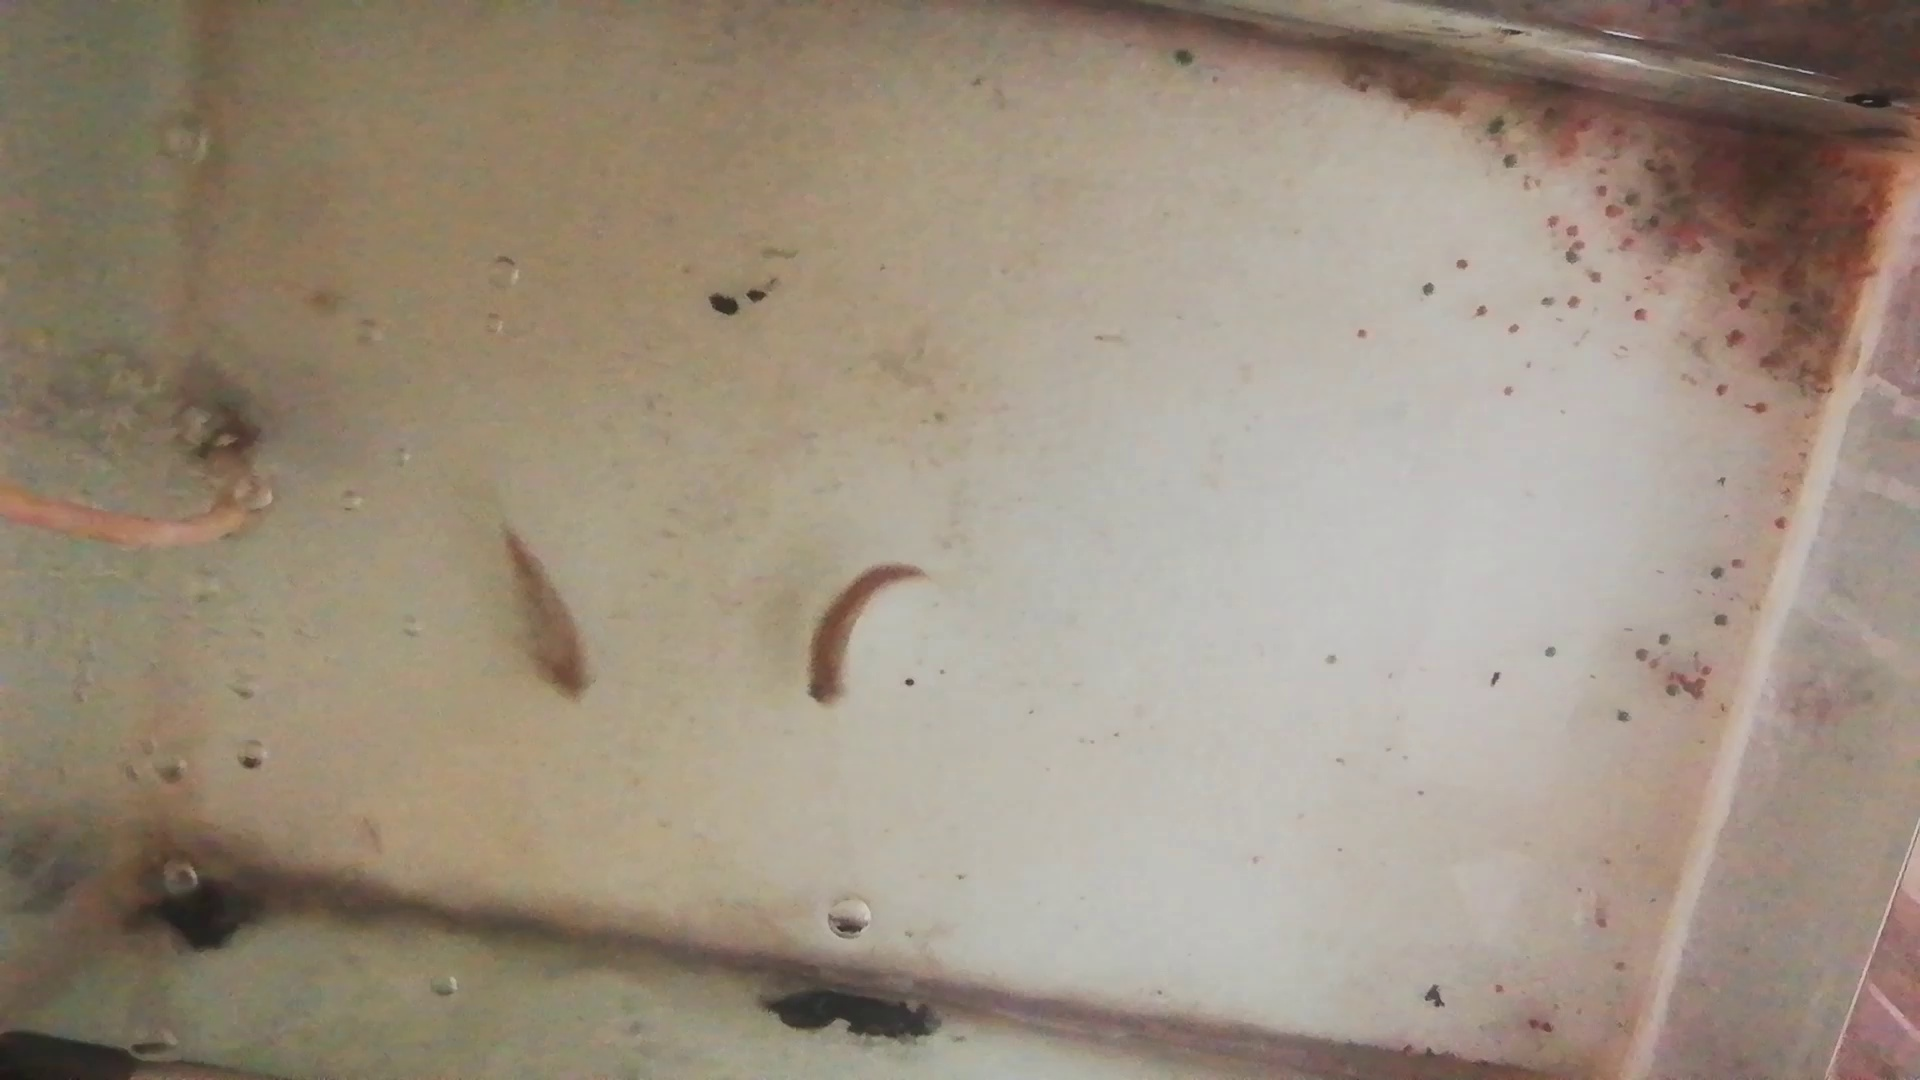fish: (493, 516, 596, 711), (804, 560, 926, 707)
